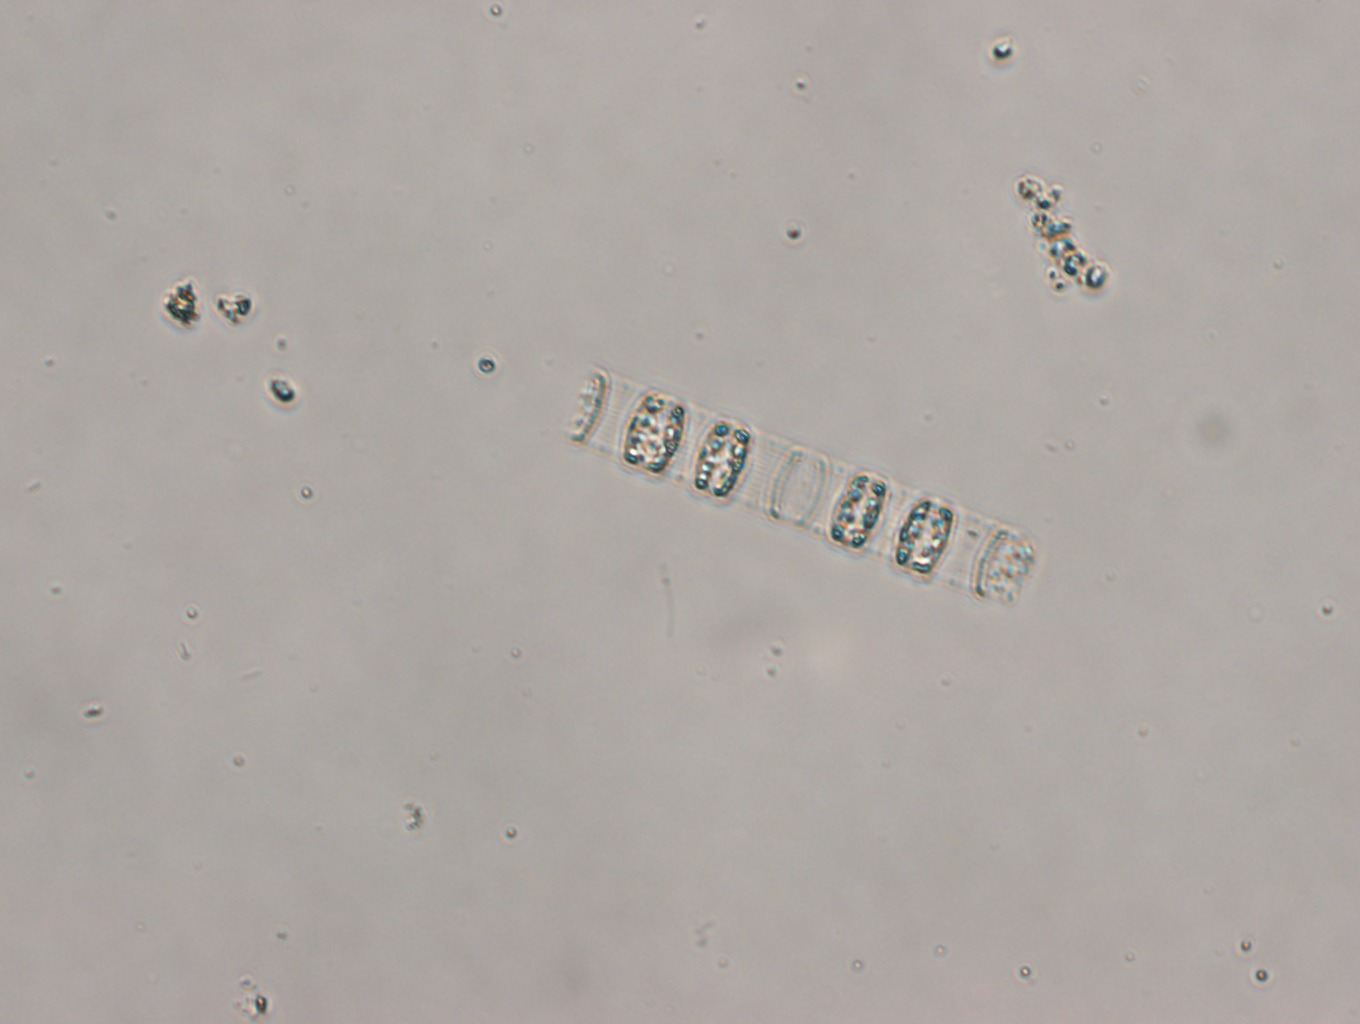skeletonema: (566, 361, 1037, 603)
